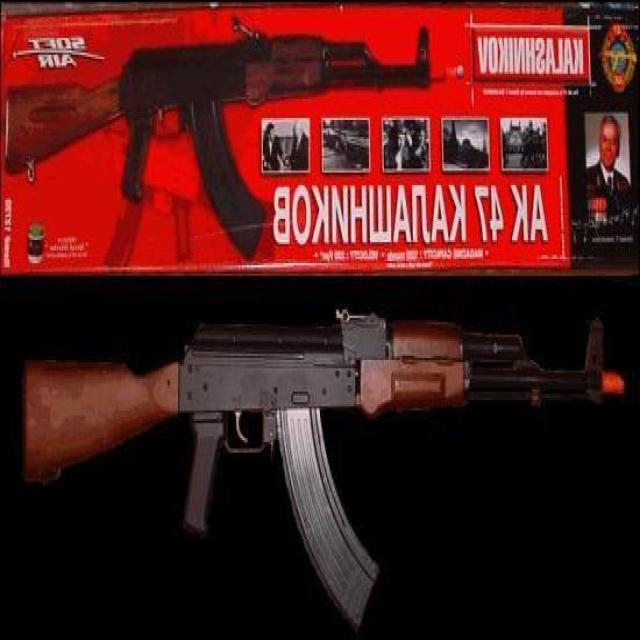Gun: (37, 321, 629, 587), (27, 43, 442, 221)
